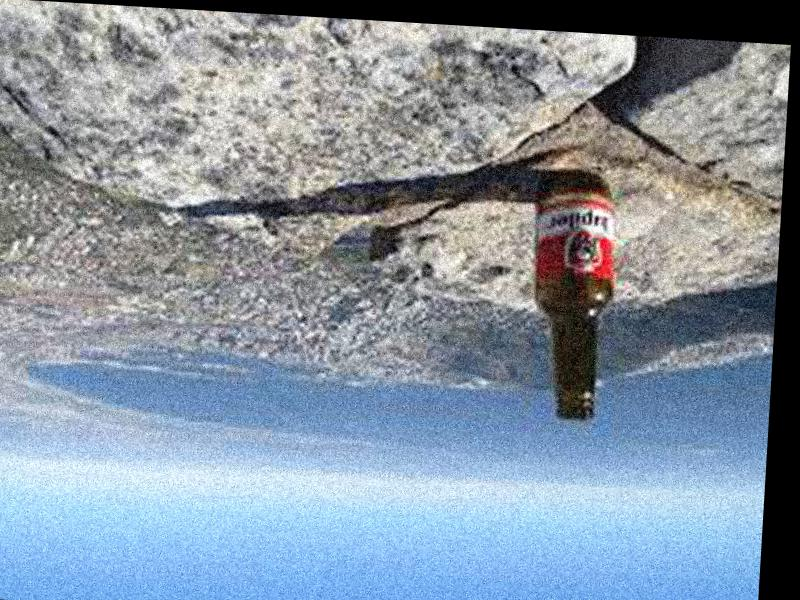Beer: (523, 178, 621, 424)
